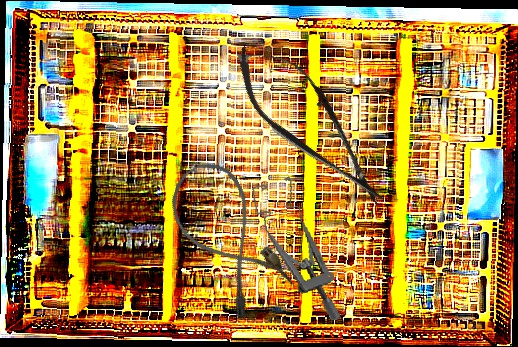Cannula: (156, 151, 299, 323)
Micro Scissor: (217, 26, 406, 224)
Speculum: (250, 172, 343, 331)
